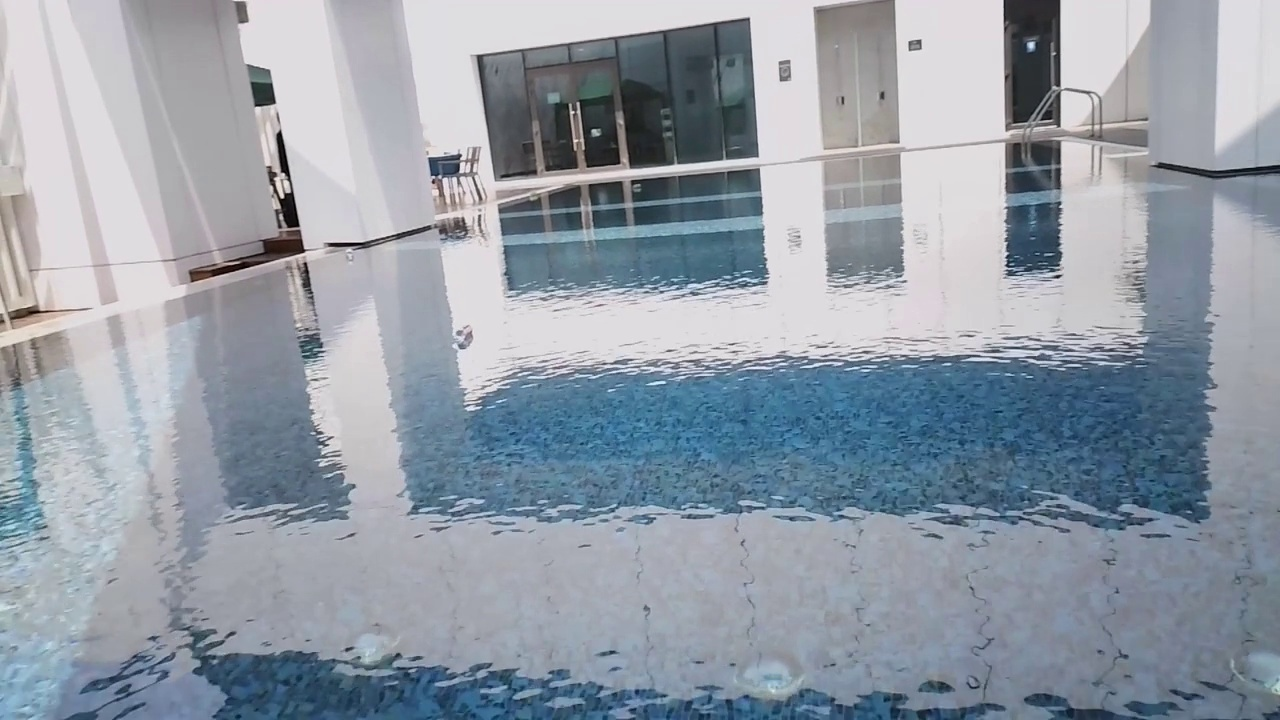debris: (448, 320, 476, 345), (339, 244, 358, 262), (628, 181, 644, 194), (525, 191, 539, 203)
